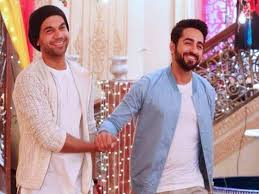Bad: (11, 5, 215, 194)
